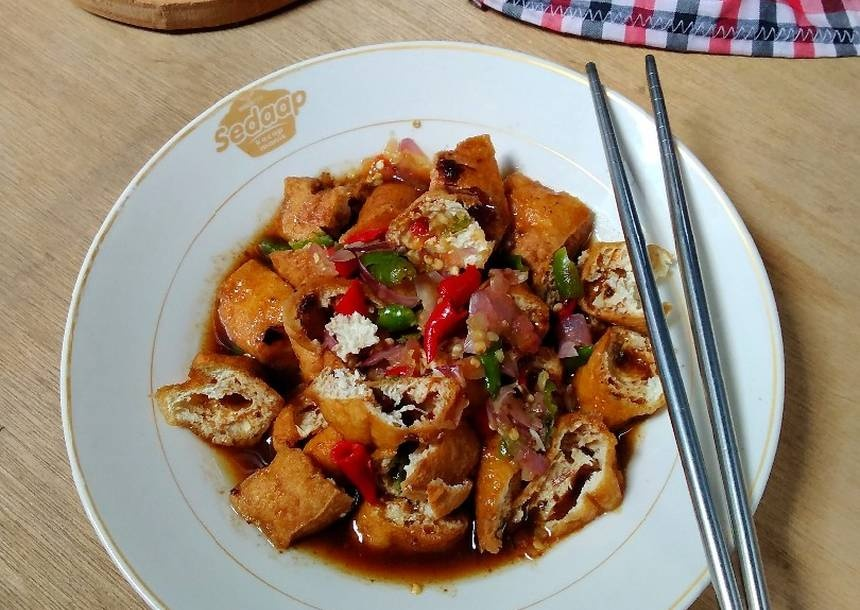tahu_gejrot: (155, 134, 677, 568)
